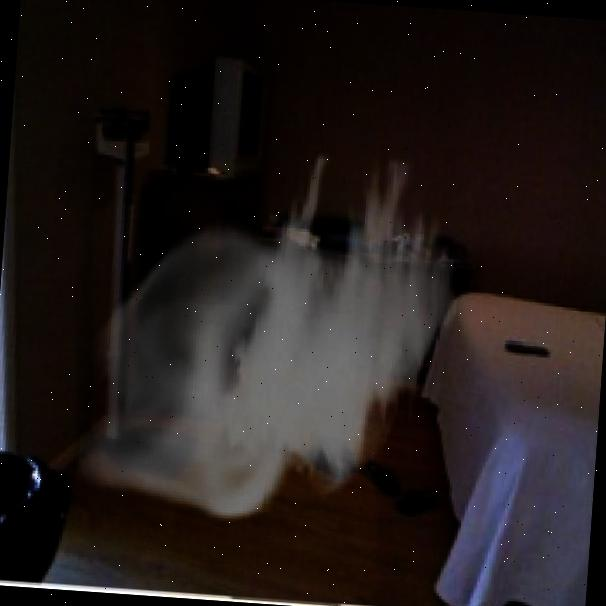smoke: (72, 137, 472, 537)
